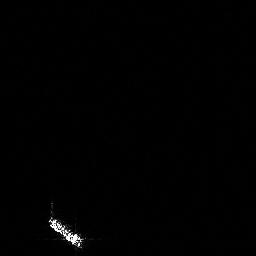ship: (48, 217, 83, 248)
